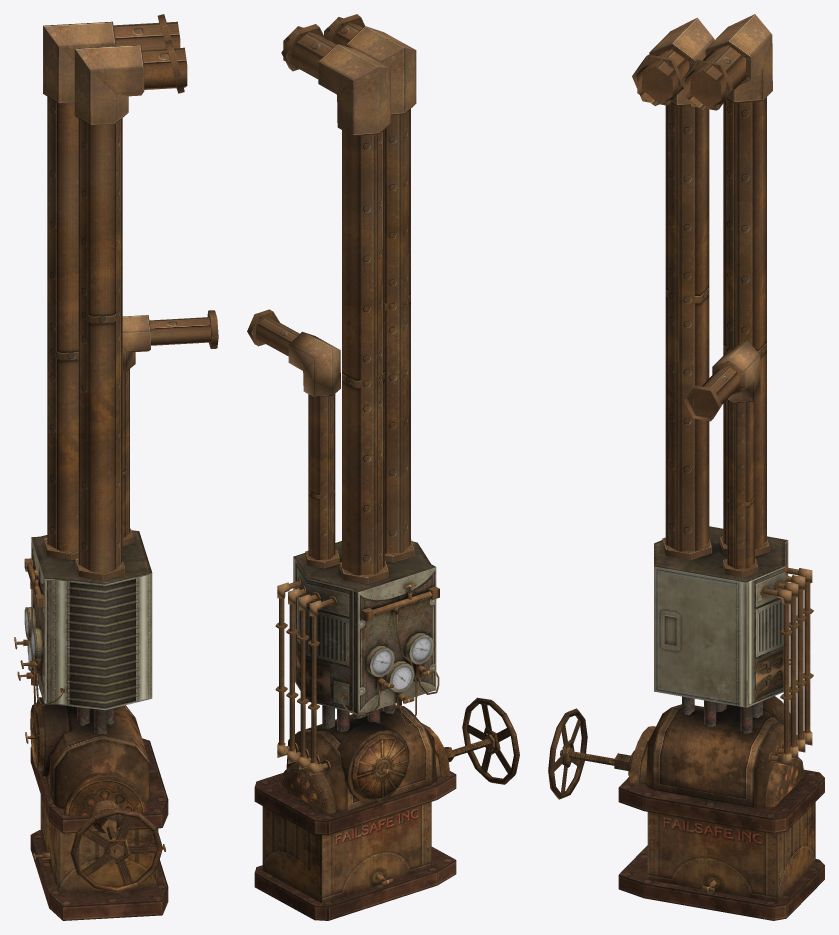
The model's file is Aquarium Machinery.obj.
3 renders of one model, left to right at view 1: azimuth 30°, elevation 25°; view 2: azimuth 150°, elevation 25°; view 3: azimuth 270°, elevation 25°, orthographic. The views are drawn at different scales.
Parts seen in each view (by area): view 1: GUL_Architecture_Aquarium_Machinery; view 2: GUL_Architecture_Aquarium_Machinery; view 3: GUL_Architecture_Aquarium_Machinery.
Part boxes in pixels (x1=…): GUL_Architecture_Aquarium_Machinery: x1=14, y1=14, x2=218, y2=920; GUL_Architecture_Aquarium_Machinery: x1=247, y1=14, x2=519, y2=920; GUL_Architecture_Aquarium_Machinery: x1=548, y1=14, x2=824, y2=920.
Size of the model in its own units: 121 by 468 by 138.
Materials: 2 (2 with a texture image).
